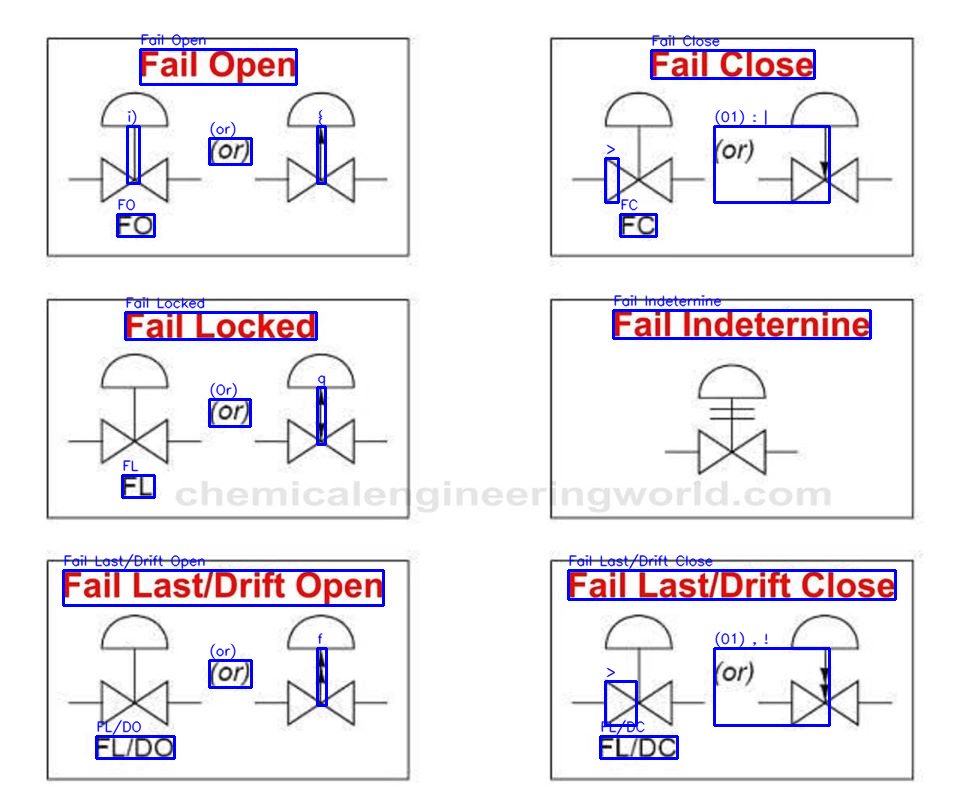Válvula: (91, 87, 177, 213), (784, 607, 866, 731), (691, 359, 772, 480), (281, 613, 361, 734), (600, 612, 680, 731), (283, 90, 361, 210), (280, 353, 362, 465), (599, 88, 677, 205), (96, 611, 174, 727), (785, 91, 864, 205), (100, 352, 173, 464)
